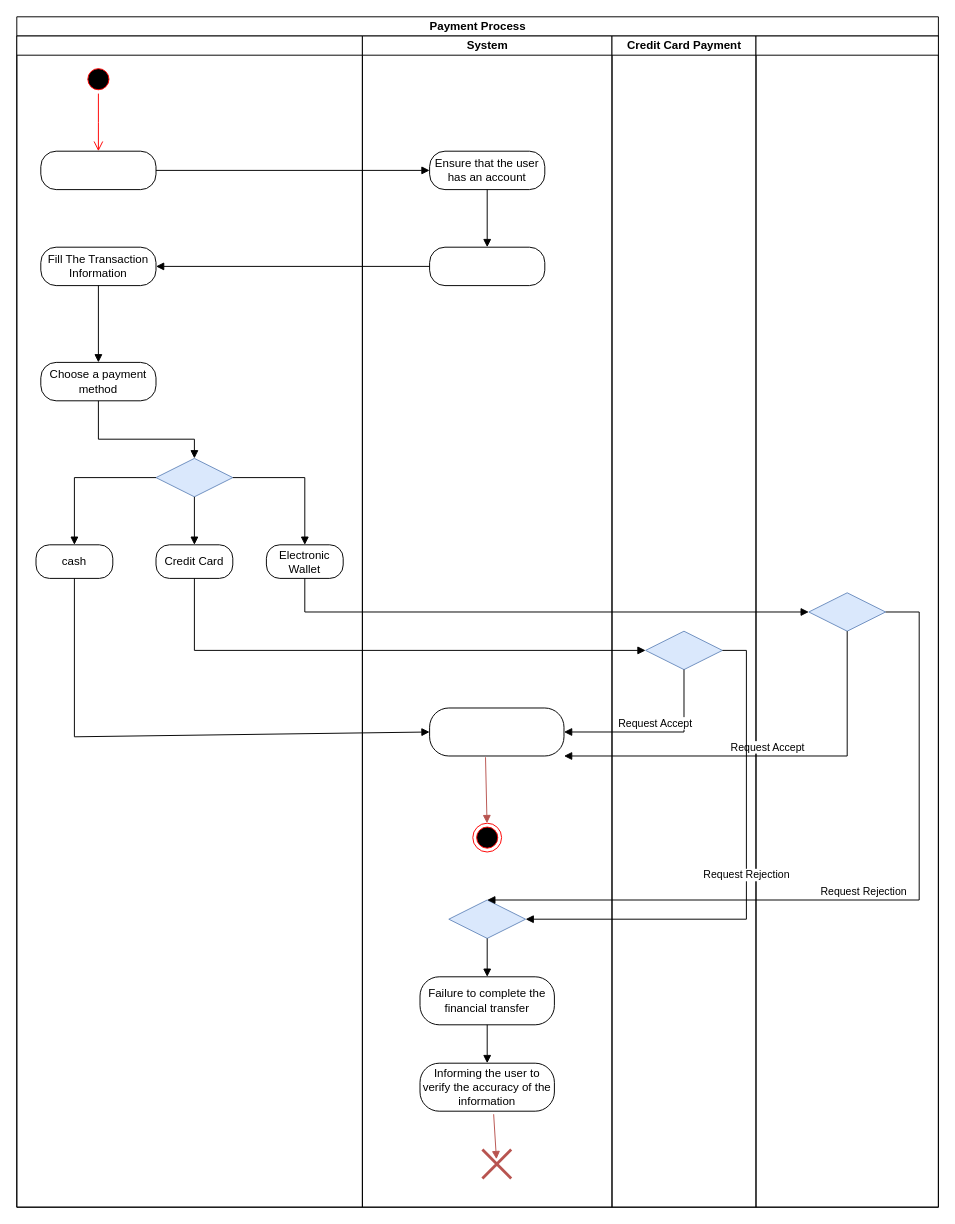
This 955x1224 diagram has some shape labels left out. The shapes that lost their labels are listed below. From the top down, each one's box as (x1, y1, x2, y2) in pixels, then its label:
(40, 150, 156, 190): Add payment System
(429, 246, 545, 286): Create a New Transaction
(16, 35, 362, 1207): User
(755, 35, 938, 1207): Electronic Wallet Payment
(429, 707, 564, 756): Completion of the money transfer
